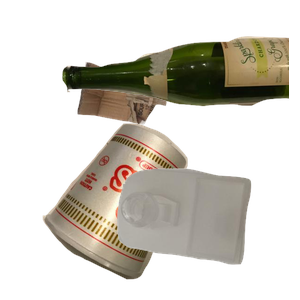cardboard: (75, 59, 237, 176)
glass: (60, 34, 300, 133)
plastic: (115, 166, 300, 300)
trash: (40, 121, 221, 300)
